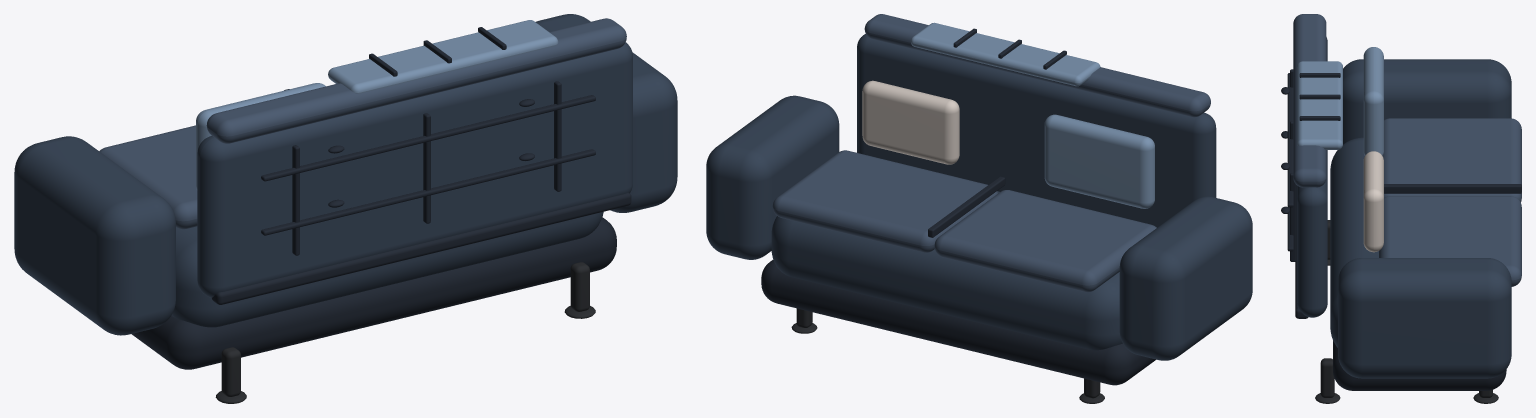
Rendered from p2s_premium_dark_sofa.glb.
3 views of the same model, side by side, from view 1: azimuth 30°, elevation 25°; view 2: azimuth 150°, elevation 25°; view 3: azimuth 270°, elevation 25° (orthographic). The views are drawn at different scales.
Visible parts, largest first — view 1: premium_sofa_rear_wrapped_upholstery_panel, premium_sofa_left_rolled_arm, premium_sofa_single_piece_shadow_plinth, premium_sofa_soft_bench_base, premium_sofa_rear_top_rolled_crown, premium_sofa_right_rolled_arm, premium_sofa_folded_blue_throw_over_back, premium_sofa_rear_bottom_shadow_skirt, premium_sofa_left_seat_cushion_crowned, premium_sofa_rear_horizontal_tailored_welt_0.77, premium_sofa_rear_horizontal_tailored_welt_0.58, premium_sofa_muted_blue_pillow (+5 smaller); view 2: premium_sofa_rear_wrapped_upholstery_panel, premium_sofa_soft_bench_base, premium_sofa_left_rolled_arm, premium_sofa_left_seat_cushion_crowned, premium_sofa_right_rolled_arm, premium_sofa_right_seat_cushion_crowned, premium_sofa_single_piece_shadow_plinth, premium_sofa_muted_blue_pillow, premium_sofa_warm_linen_pillow, premium_sofa_rear_top_rolled_crown, premium_sofa_folded_blue_throw_over_back, premium_sofa_center_cushion_shadow_gap; view 3: premium_sofa_right_rolled_arm, premium_sofa_left_seat_cushion_crowned, premium_sofa_left_rolled_arm, premium_sofa_right_seat_cushion_crowned, premium_sofa_soft_bench_base, premium_sofa_rear_wrapped_upholstery_panel, premium_sofa_folded_blue_throw_over_back, premium_sofa_rear_top_rolled_crown, premium_sofa_single_piece_shadow_plinth, premium_sofa_muted_blue_pillow, premium_sofa_warm_linen_pillow, premium_sofa_center_cushion_shadow_gap (+5 smaller).
Part boxes in pixels (box(x1,y1,x2,y2)): premium_sofa_rear_wrapped_upholstery_panel: box(197, 42, 632, 297); premium_sofa_left_rolled_arm: box(14, 136, 175, 335); premium_sofa_single_piece_shadow_plinth: box(131, 217, 616, 369); premium_sofa_soft_bench_base: box(171, 212, 603, 327); premium_sofa_rear_top_rolled_crown: box(206, 18, 626, 143); premium_sofa_right_rolled_arm: box(535, 14, 677, 212); premium_sofa_folded_blue_throw_over_back: box(328, 20, 558, 93); premium_sofa_rear_bottom_shadow_skirt: box(212, 192, 631, 304); premium_sofa_left_seat_cushion_crowned: box(99, 125, 197, 229); premium_sofa_rear_horizontal_tailored_welt_0.77: box(261, 95, 595, 181); premium_sofa_rear_horizontal_tailored_welt_0.58: box(261, 149, 595, 235); premium_sofa_muted_blue_pillow: box(196, 83, 325, 189); premium_sofa_rear_wrapped_upholstery_panel: box(857, 34, 1216, 227); premium_sofa_soft_bench_base: box(771, 191, 1122, 350); premium_sofa_left_rolled_arm: box(1119, 196, 1252, 360); premium_sofa_left_seat_cushion_crowned: box(934, 190, 1156, 292); premium_sofa_right_rolled_arm: box(706, 95, 839, 259); premium_sofa_right_seat_cushion_crowned: box(772, 150, 997, 252); premium_sofa_single_piece_shadow_plinth: box(761, 260, 1155, 385); premium_sofa_muted_blue_pillow: box(1044, 114, 1154, 208); premium_sofa_warm_linen_pillow: box(862, 80, 959, 164); premium_sofa_rear_top_rolled_crown: box(864, 14, 1210, 117); premium_sofa_folded_blue_throw_over_back: box(911, 22, 1100, 86); premium_sofa_center_cushion_shadow_gap: box(928, 176, 1005, 237); premium_sofa_right_rolled_arm: box(1338, 258, 1511, 378); premium_sofa_left_seat_cushion_crowned: box(1382, 118, 1521, 202); premium_sofa_left_rolled_arm: box(1343, 59, 1511, 144); premium_sofa_right_seat_cushion_crowned: box(1379, 196, 1521, 286); premium_sofa_soft_bench_base: box(1330, 137, 1378, 347); premium_sofa_rear_wrapped_upholstery_panel: box(1297, 37, 1327, 317); premium_sofa_folded_blue_throw_over_back: box(1297, 61, 1342, 149); premium_sofa_rear_top_rolled_crown: box(1293, 14, 1326, 187); premium_sofa_single_piece_shadow_plinth: box(1333, 340, 1506, 390); premium_sofa_muted_blue_pillow: box(1363, 47, 1383, 155); premium_sofa_warm_linen_pillow: box(1363, 151, 1383, 252); premium_sofa_center_cushion_shadow_gap: box(1384, 184, 1521, 193).
Size of the model in its own units: 2.12 by 1.07 by 0.9427.
